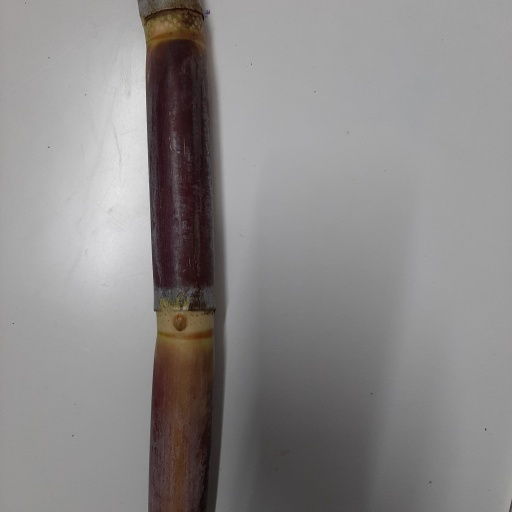Bud: (171, 314, 187, 333)
